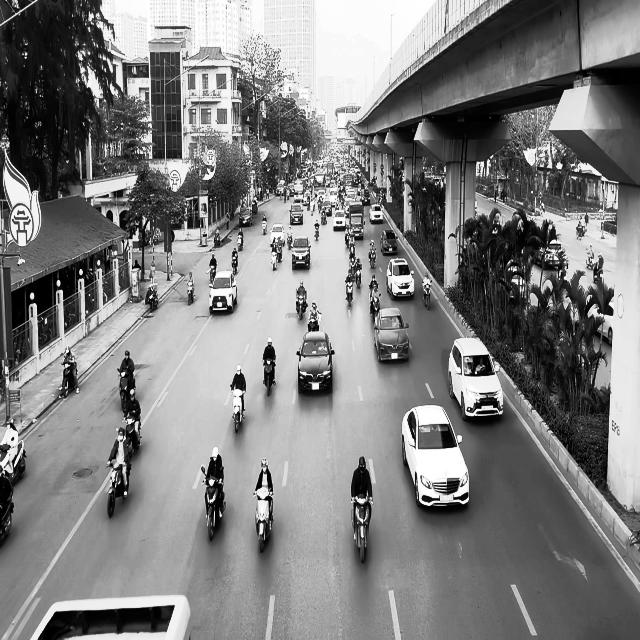car: (402, 404, 469, 508), (448, 337, 503, 421), (296, 331, 334, 393), (374, 307, 409, 362), (208, 270, 238, 314), (386, 257, 415, 300), (291, 236, 311, 270), (380, 229, 398, 255), (270, 224, 285, 247), (369, 204, 383, 223), (239, 207, 253, 226)
motorbike: (200, 466, 226, 541), (106, 459, 132, 517), (351, 494, 372, 562), (254, 490, 274, 552), (58, 361, 79, 399), (123, 415, 141, 458), (117, 368, 134, 411), (230, 385, 245, 433), (262, 358, 276, 396), (295, 288, 307, 320), (308, 310, 322, 332), (422, 280, 432, 310), (186, 281, 195, 305)
